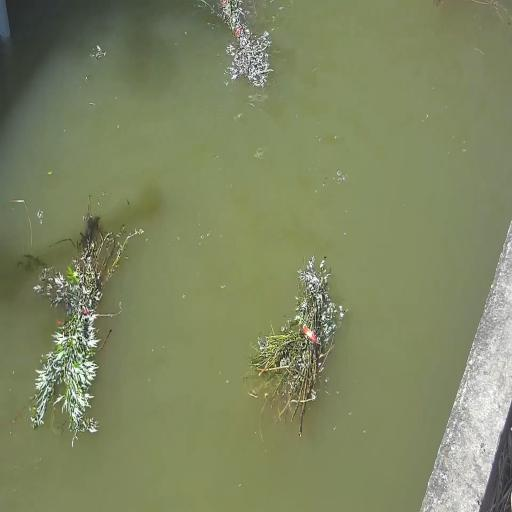twig: (25, 198, 143, 444), (243, 253, 342, 441), (192, 0, 290, 92), (432, 1, 510, 33)
